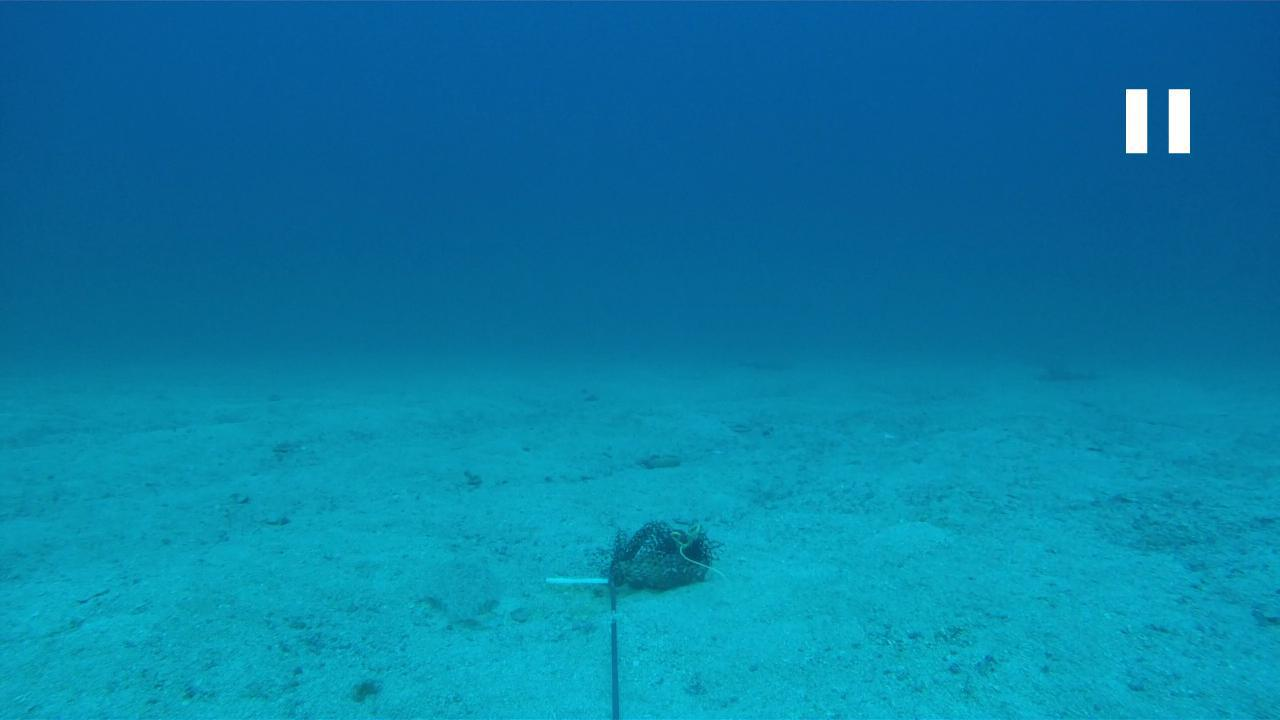bothus: (412, 553, 506, 622)
